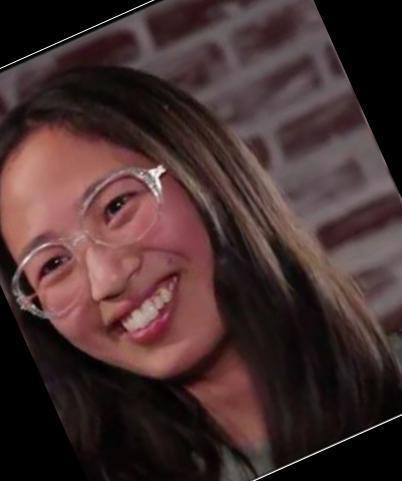Drunk: (7, 139, 212, 364)
